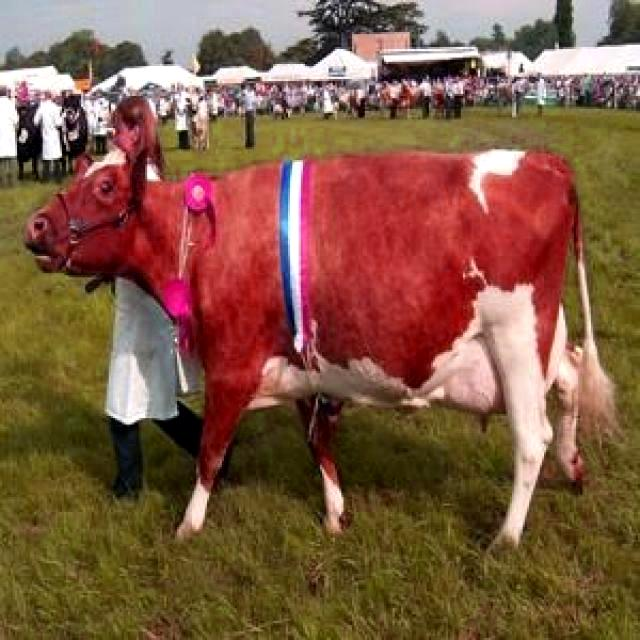COW: (26, 149, 614, 543)
